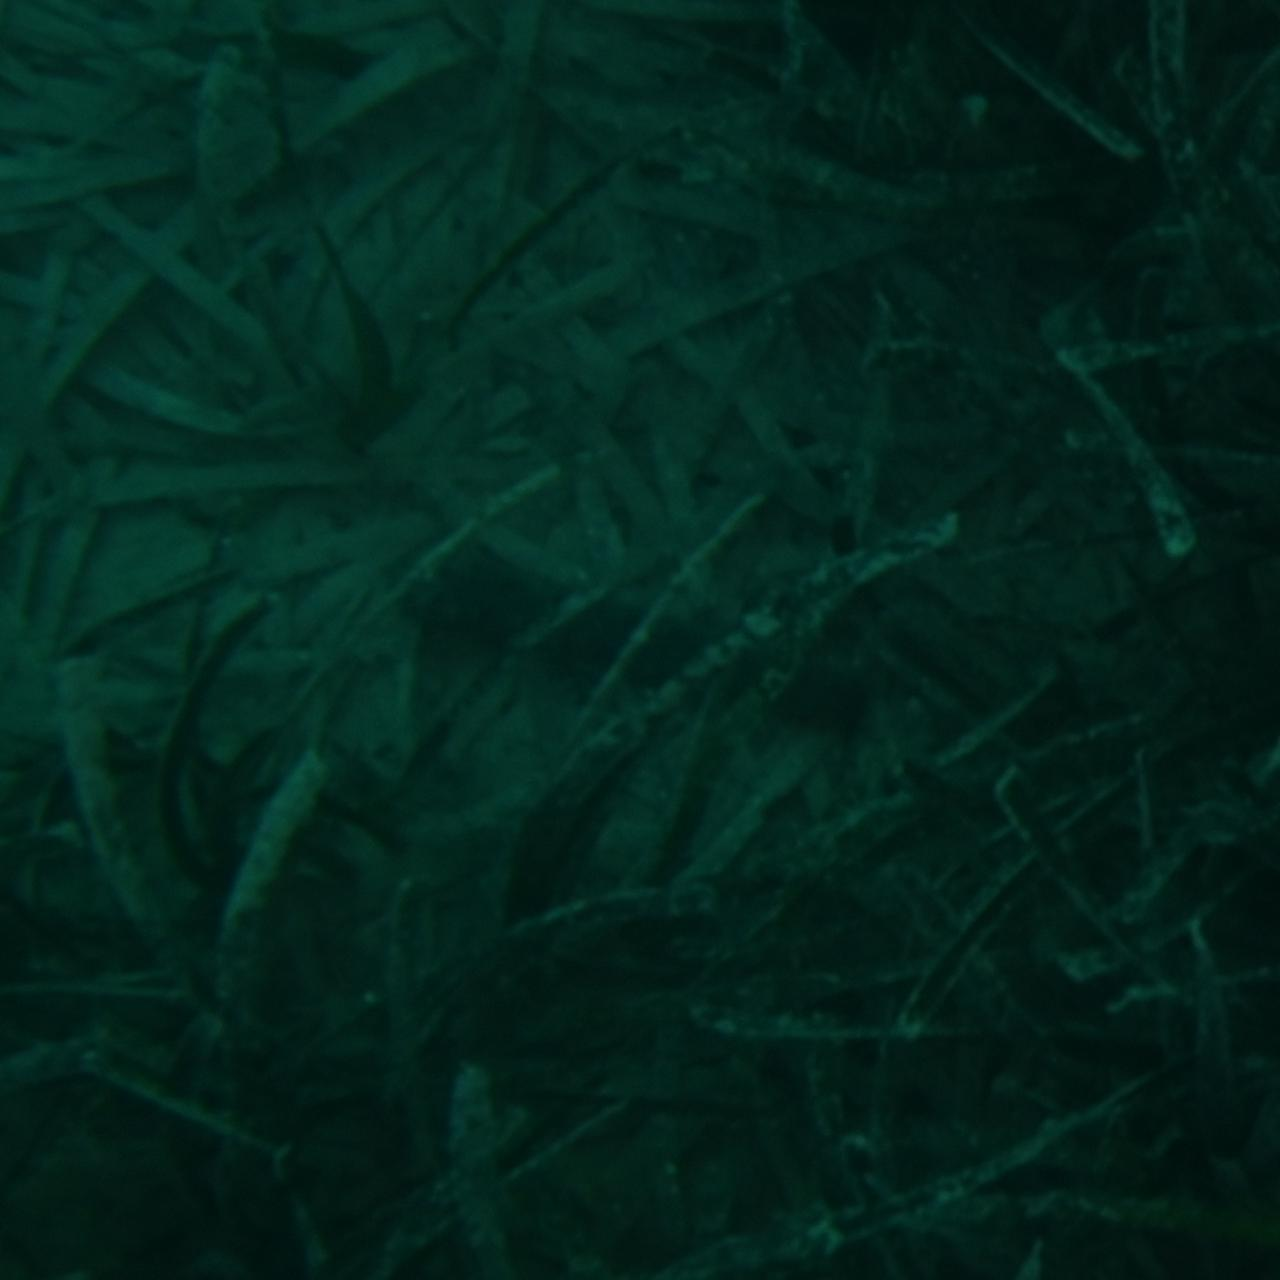Holothuria tubulosa: (404, 528, 876, 752)
